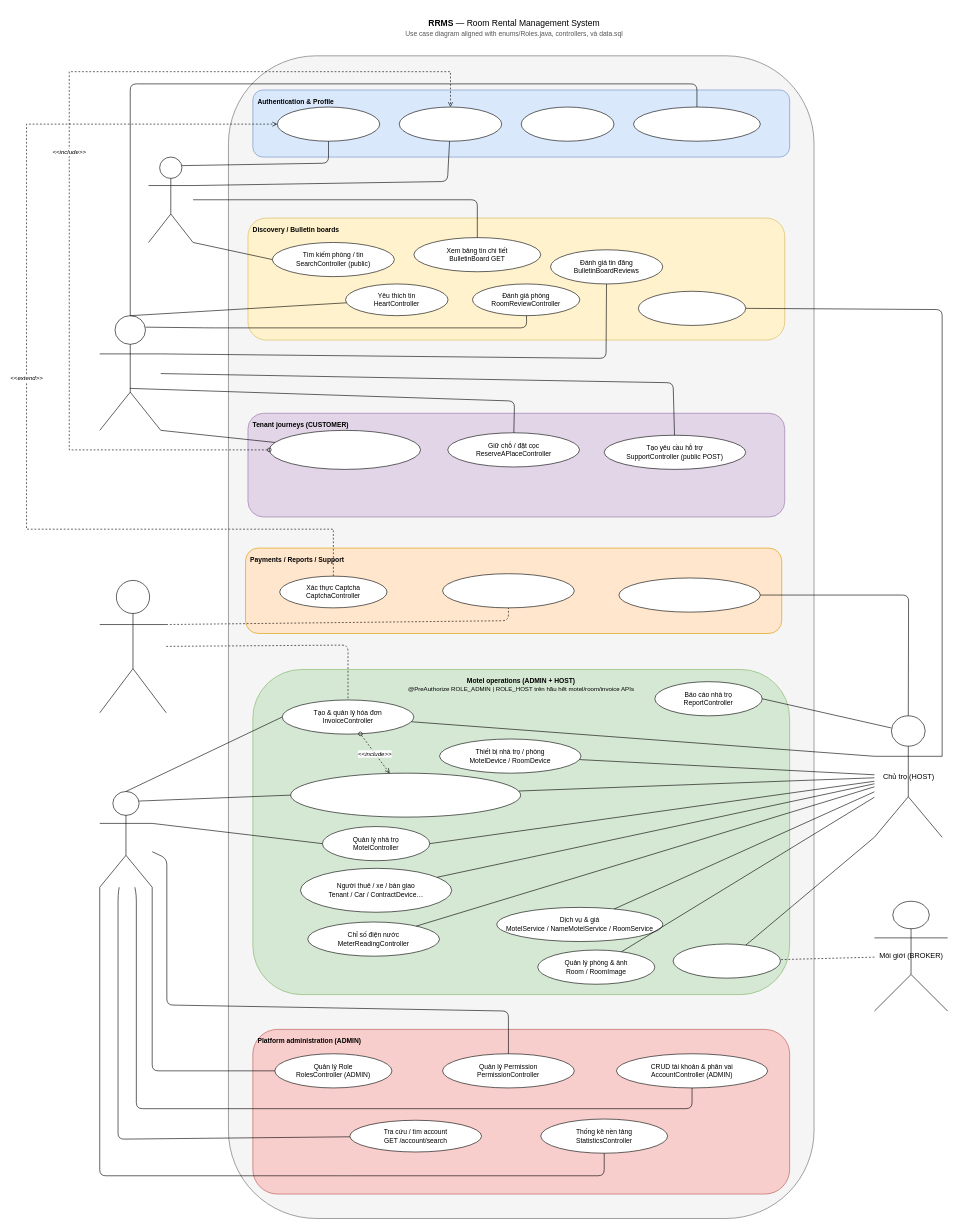
This 958x1229 diagram has some shape labels left out. The centre of each missing label's shape, as x and y in pixels:
"Hồ sơ & đổi MK ProfileController / Account profile" goes at (x=696, y=123).
"Hợp đồng & template Contract / ContractTemplate Temporary contract" goes at (x=405, y=795).
"Khách (GUEST)" goes at (x=170, y=199).
"Người thuê (CUSTOMER)" goes at (x=130, y=372).
"Nhân viên (EMPLOYEE)" goes at (x=132, y=646).
"Quản lý môi giới BrokerController" goes at (x=726, y=960).
"Quản trị (ADMIN)" goes at (x=125, y=839).
"Thanh toán online VNPay / MoMo / Stripe / PayPal PaymentController" goes at (x=345, y=449).
"Thu chi giao dịch nội bộ TransactionController" goes at (x=689, y=594).
"Xử lý hỗ trợ (danh sách) Support GET (auth)" goes at (x=508, y=590).
"Đăng / sửa tin (HOST quản trị motel)" goes at (x=692, y=308).
"Đăng ký tài khoản /authen/register" goes at (x=328, y=123).
"Đăng nhập / OAuth /authen/login" goes at (x=450, y=123).
"Đăng xuất /authen/logout" goes at (x=567, y=123).
